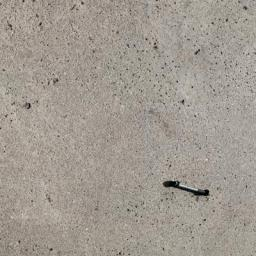FOD: (161, 179, 215, 202)
